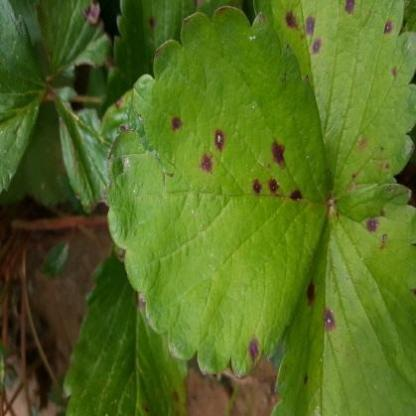Strawberry_Leaf_Spot: (101, 6, 330, 379), (269, 183, 415, 415), (252, 0, 415, 200), (62, 244, 189, 415), (98, 0, 254, 118)
